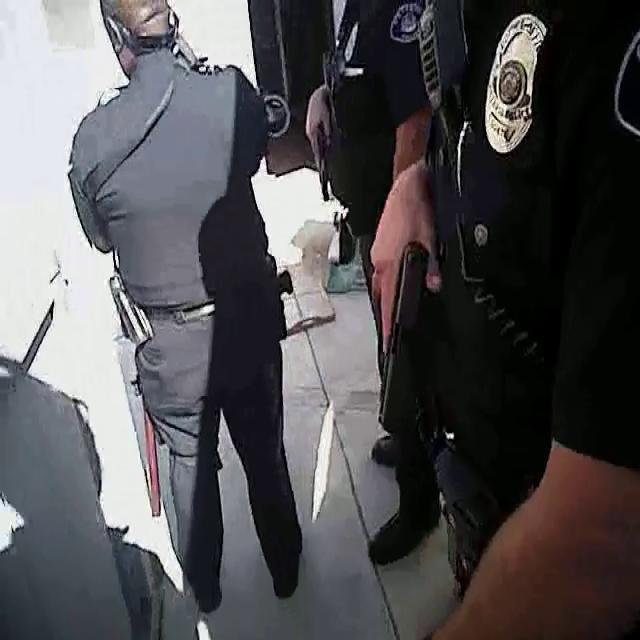gun: (347, 199, 453, 451), (298, 102, 348, 210)
